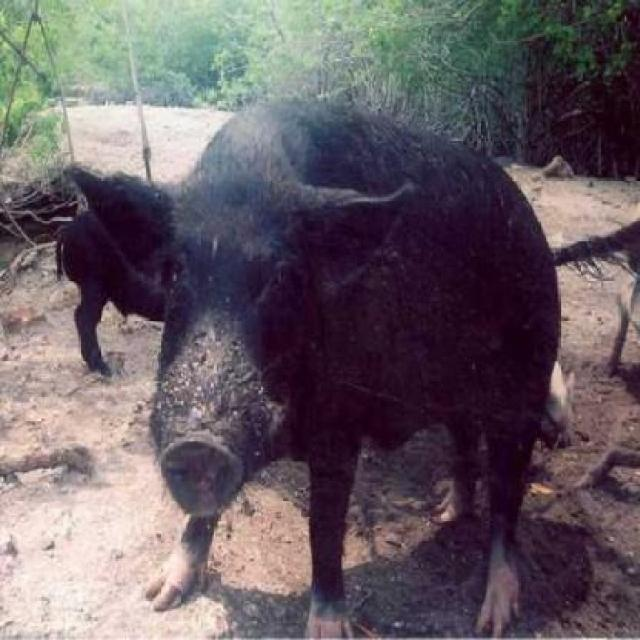Boar: (160, 68, 594, 615)
